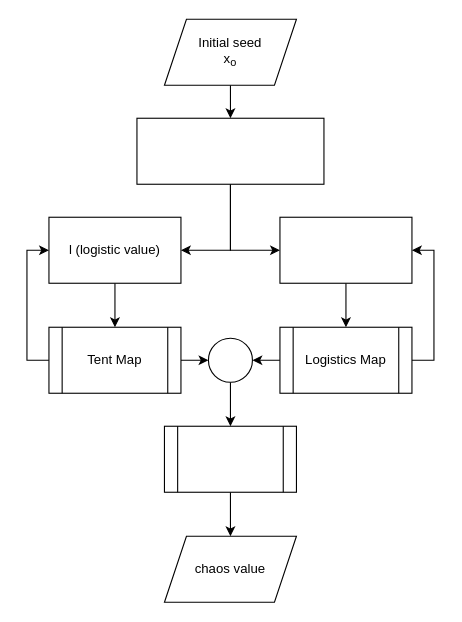
This 462x622 diagram has some shape labels left out. The centre of each missing label's shape, as x and y in pixels:
mix function 1: point (229, 458)
normalized initial seed t ∈ [0, 1): point (230, 150)
t (tent value): point (345, 249)
